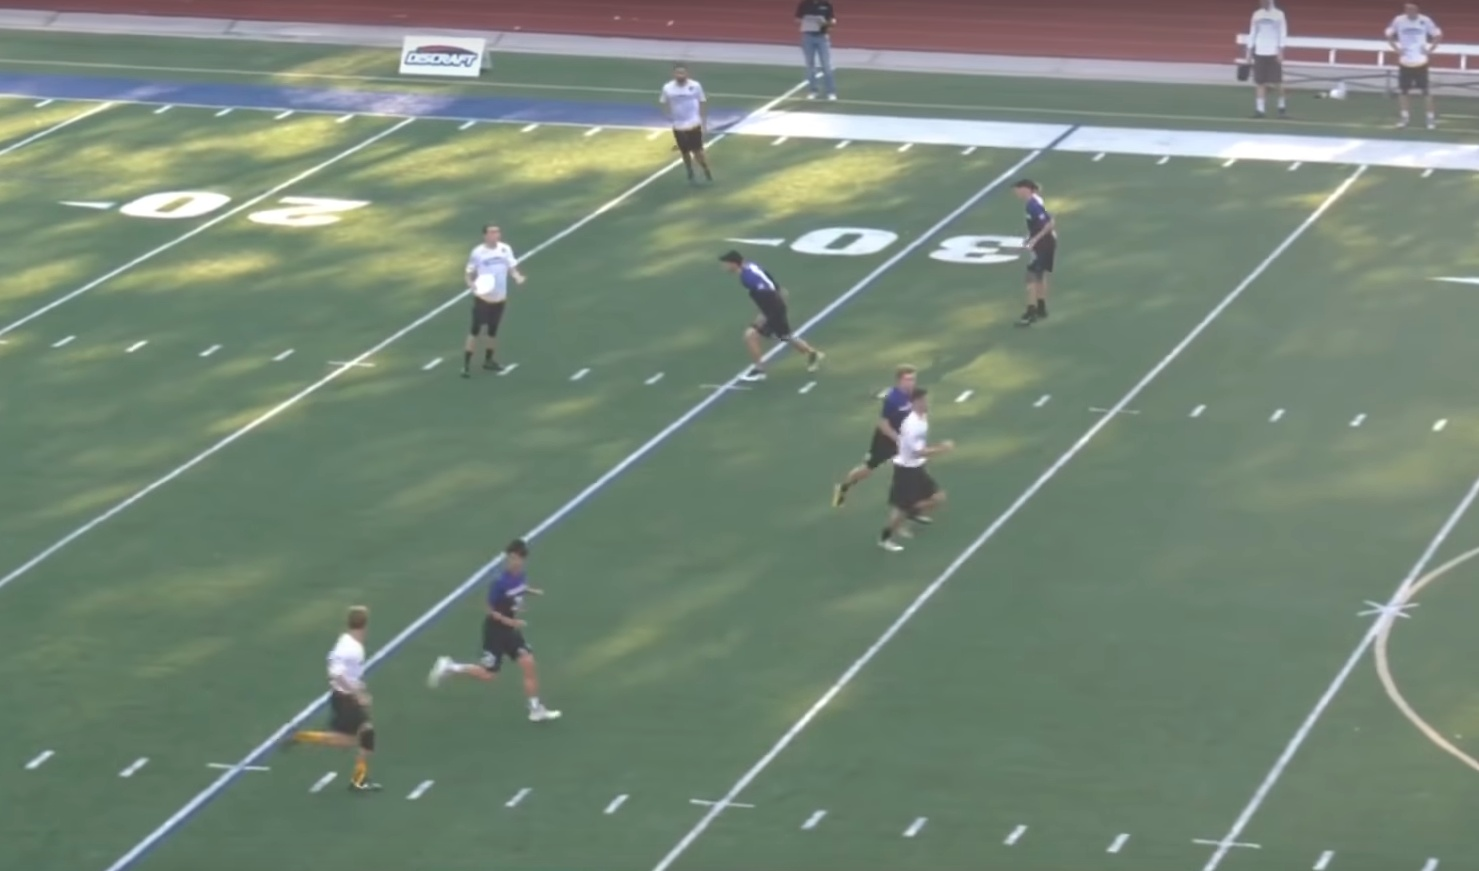frisbee: (473, 272, 495, 296)
